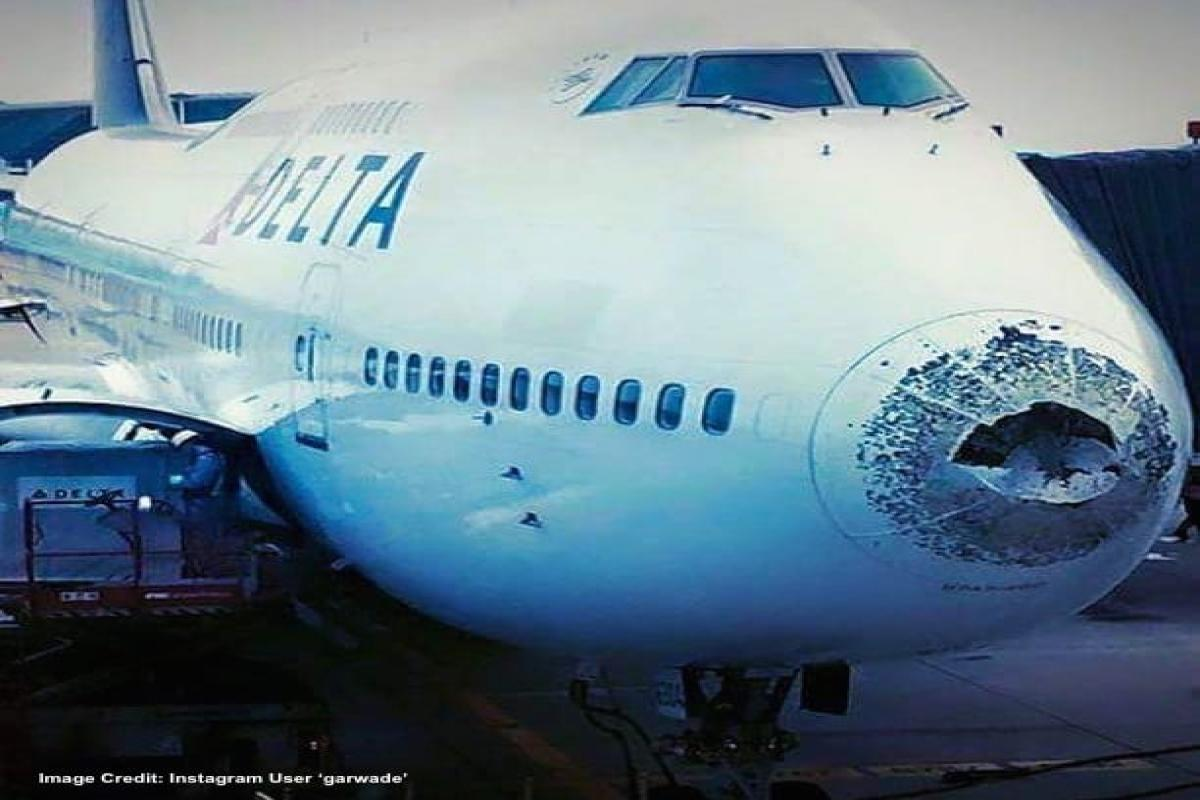Fuselage_damage: (830, 312, 1200, 601)
